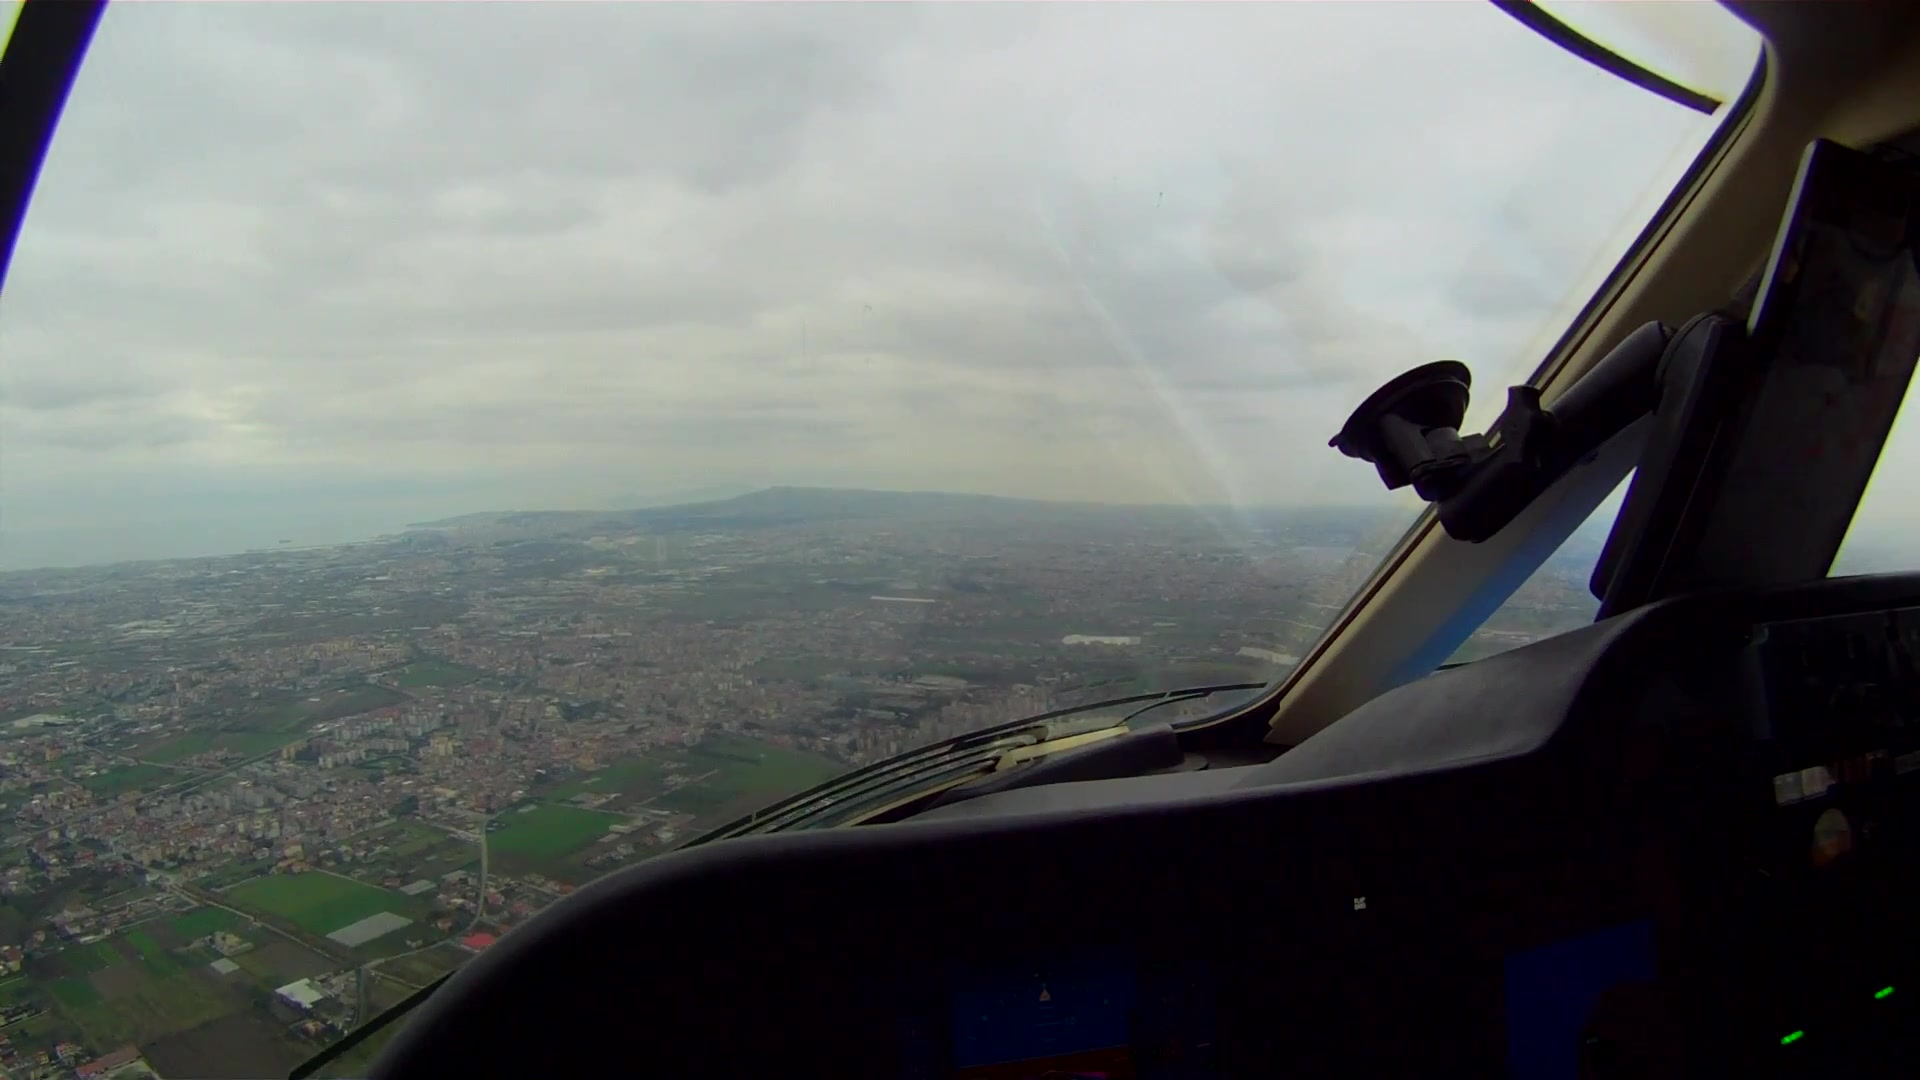runway: (653, 533, 669, 564)
